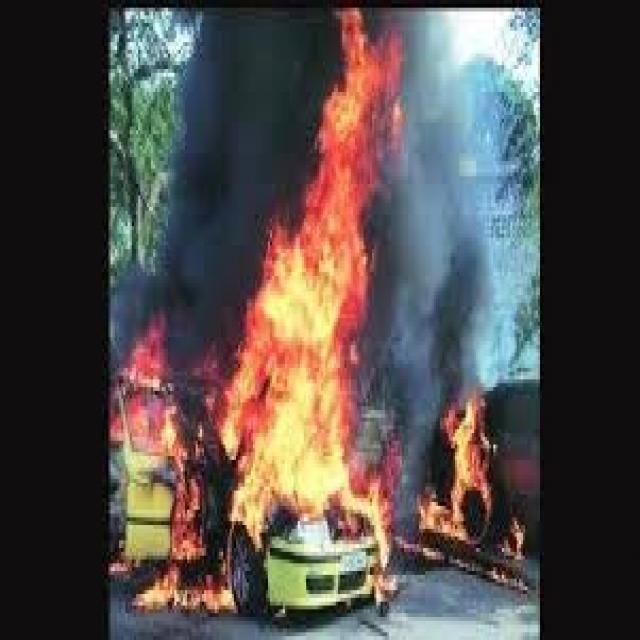fire: (213, 15, 410, 525), (110, 333, 232, 617), (417, 395, 529, 571)
smoke: (110, 8, 332, 372)
